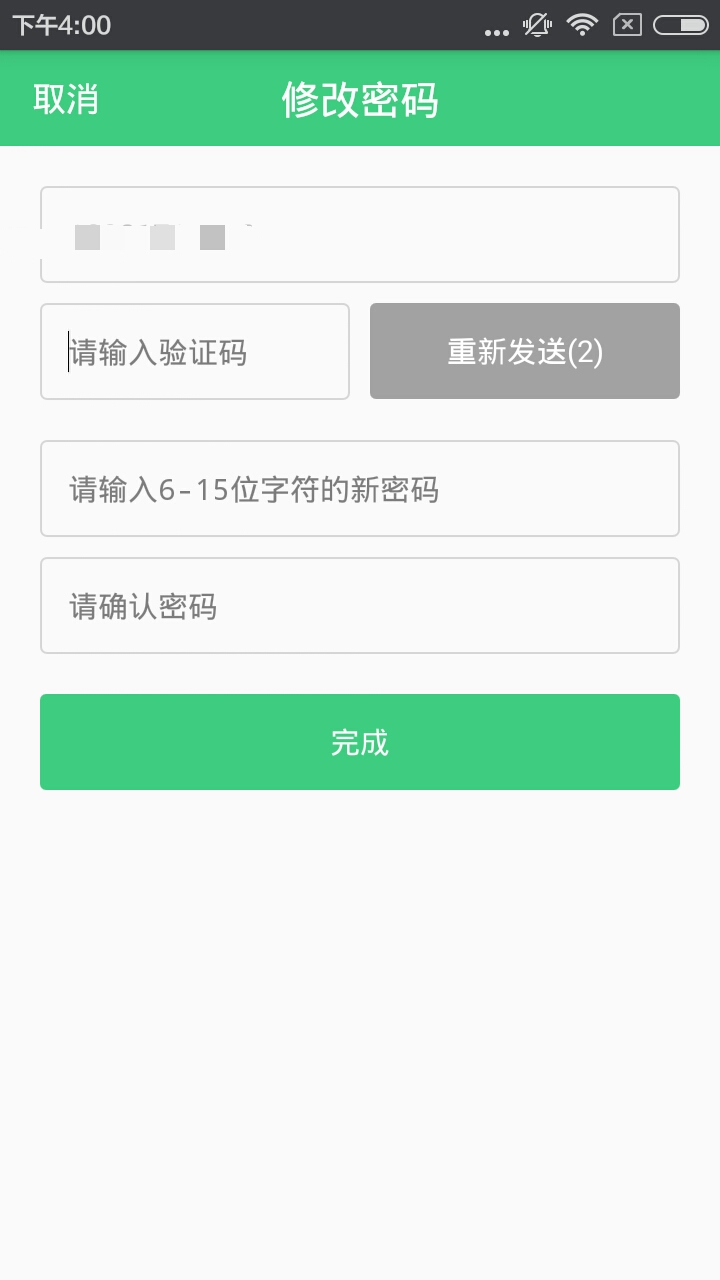button: (33, 684, 692, 803), (363, 295, 696, 413)
nav: (4, 51, 720, 155)
textview: (32, 431, 690, 548), (32, 555, 688, 670), (25, 299, 354, 410)
